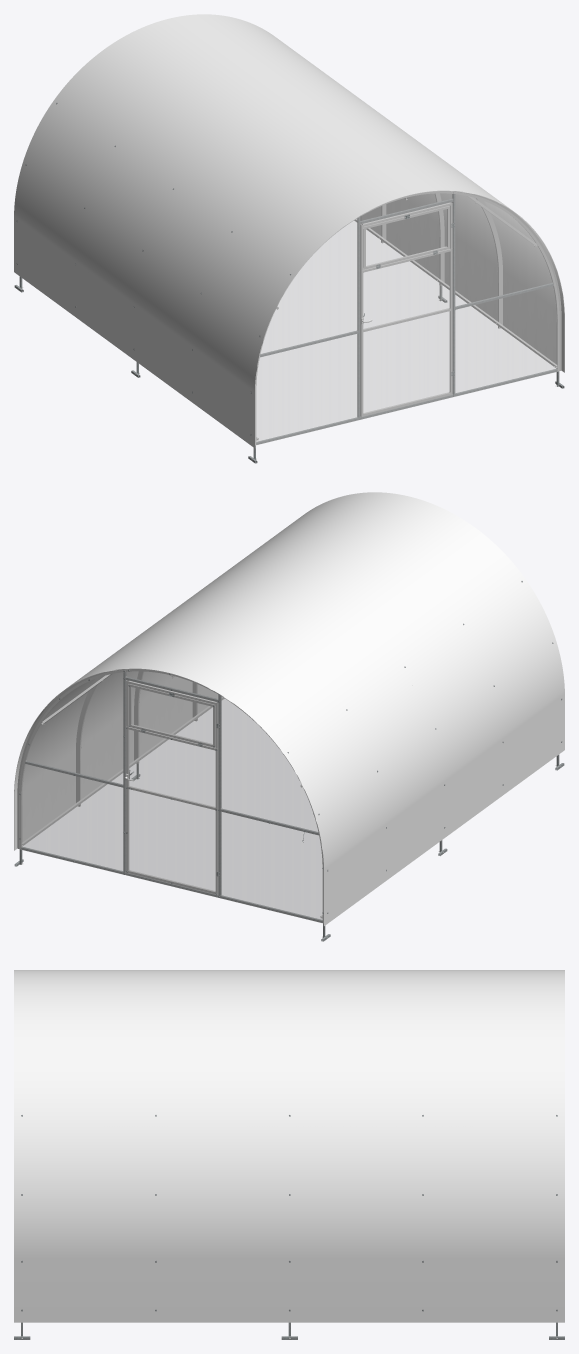
The model's file is greenhouse.glb.
The picture shows the model from 3 angles, top to bottom: view 1: azimuth 30°, elevation 25°; view 2: azimuth 150°, elevation 25°; view 3: azimuth 270°, elevation 25°; orthographic projection. The views are drawn at different scales.
Visible parts, largest first — view 1: greenhouse; view 2: greenhouse; view 3: greenhouse.
Part boxes in pixels (bbox=[...]): greenhouse: bbox=[14, 14, 564, 463]; greenhouse: bbox=[14, 492, 564, 941]; greenhouse: bbox=[14, 970, 564, 1339].
Bounding box in the file's own units: 5.6 × 3.97 × 7.5.
Materials: 7 (3 with a texture image).
